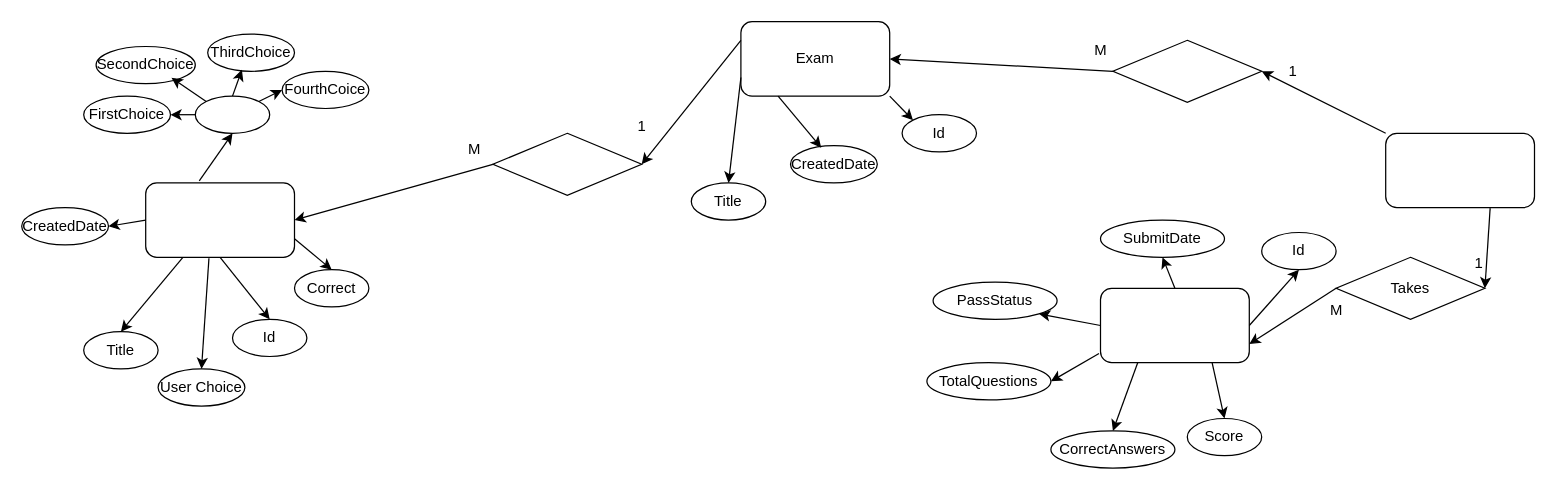
This 1556x490 diagram has some shape labels left out. Each missing label, with the centre of its shape:
"AspNetUsers" belongs at point (1459, 170).
"Choices" belongs at point (232, 114).
"Contains" belongs at point (567, 163).
"Creates" belongs at point (1187, 70).
"Question" belongs at point (219, 219).
"UserExam" belongs at point (1174, 325).
